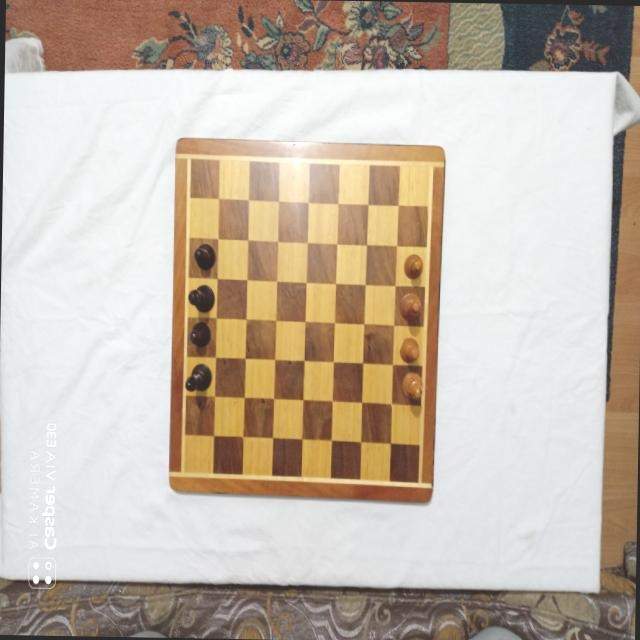black-bishop: (186, 283, 215, 313), (184, 363, 212, 393)
black-pawn: (193, 243, 215, 271), (189, 320, 211, 348)
white-bishop: (398, 291, 421, 321), (400, 370, 423, 400)
white-pawn: (400, 336, 420, 363), (403, 253, 423, 279)
